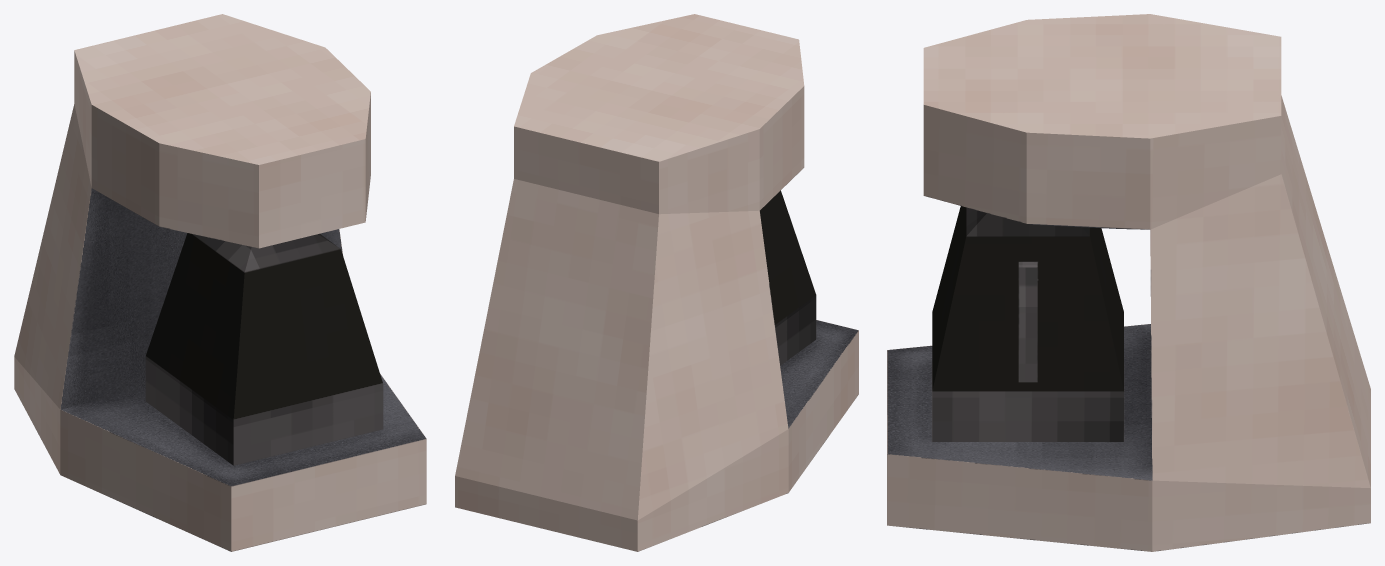
The model's file is coffee_pot.fbx.
The picture shows the model from 3 angles, left to right: view 1: azimuth 30°, elevation 25°; view 2: azimuth 150°, elevation 25°; view 3: azimuth 270°, elevation 25°; orthographic projection. The views are drawn at different scales.
Visible parts, largest first — view 1: coffee machine; view 2: coffee machine; view 3: coffee machine.
Part boxes in pixels (left/top/right/bottom): coffee machine: left=14, top=14, right=426, bottom=551; coffee machine: left=455, top=14, right=858, bottom=551; coffee machine: left=887, top=14, right=1370, bottom=551.
Size of the model in its own units: 35.14 by 41.5 by 45.79.
1 material, 1 textured.
